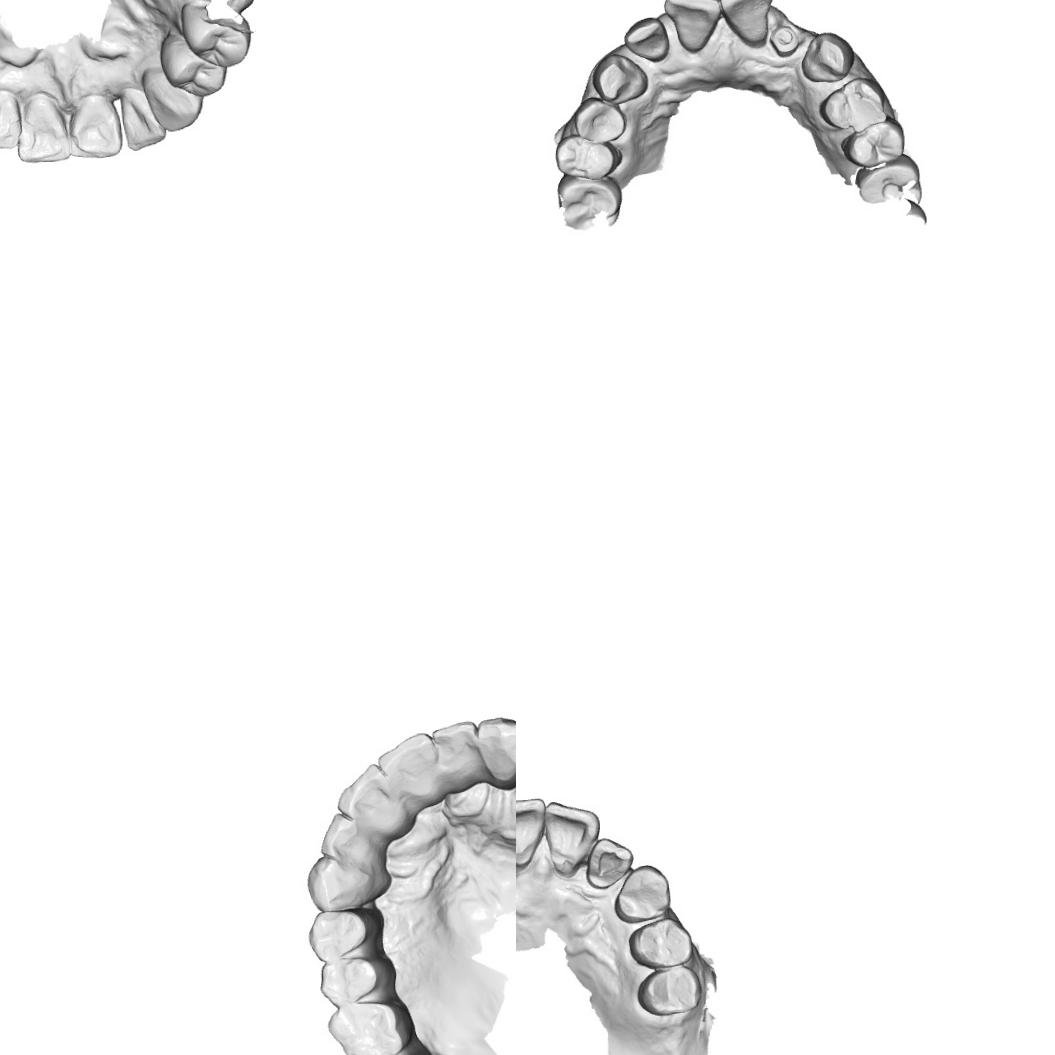canine: (306, 851, 392, 913), (138, 63, 206, 136), (612, 863, 672, 924), (589, 52, 648, 107), (473, 716, 516, 790), (799, 31, 856, 84)
implant: (768, 23, 800, 59)
incisor: (334, 761, 410, 840), (375, 730, 441, 810), (11, 89, 76, 164), (543, 799, 602, 877), (65, 86, 125, 162), (431, 716, 482, 798), (316, 811, 386, 869), (116, 84, 168, 152), (663, 0, 724, 54), (716, 0, 777, 47), (584, 836, 634, 890), (622, 15, 671, 64), (516, 797, 548, 867), (0, 88, 26, 153)
molar: (325, 998, 416, 1055), (554, 173, 626, 231), (853, 152, 924, 209)
premolar: (177, 0, 254, 71), (158, 32, 229, 102), (308, 908, 389, 963), (316, 954, 398, 1008), (818, 76, 886, 134), (839, 114, 907, 168), (627, 916, 693, 970), (635, 964, 702, 1016), (554, 132, 624, 180), (573, 95, 628, 144)
